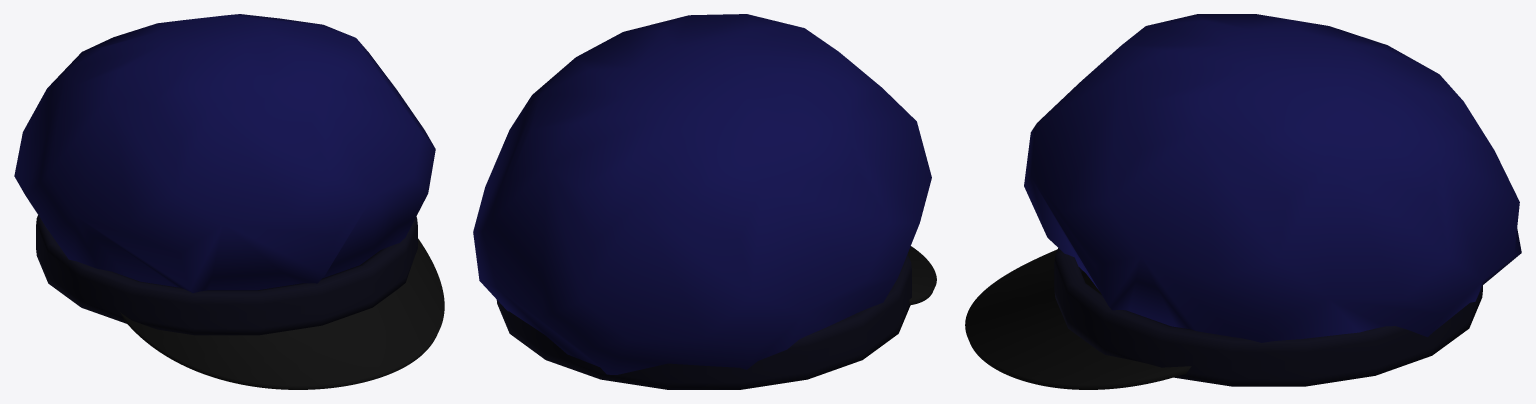
The model's file is Polizei.obj.
3 views of the same model, side by side, from view 1: azimuth 30°, elevation 25°; view 2: azimuth 150°, elevation 25°; view 3: azimuth 270°, elevation 25° (orthographic). The views are drawn at different scales.
Visible parts, largest first — view 1: Sphere002, Sphere003; view 2: Sphere002, Sphere003; view 3: Sphere002, Sphere003.
Part boxes in pixels (bbox=[...]): Sphere002: bbox=[14, 14, 435, 335]; Sphere003: bbox=[120, 238, 444, 389]; Sphere002: bbox=[473, 14, 931, 389]; Sphere003: bbox=[907, 246, 936, 305]; Sphere002: bbox=[1024, 14, 1521, 386]; Sphere003: bbox=[965, 249, 1191, 389].
Bounding box in the file's own units: 2.83 × 1.93 × 3.43.
